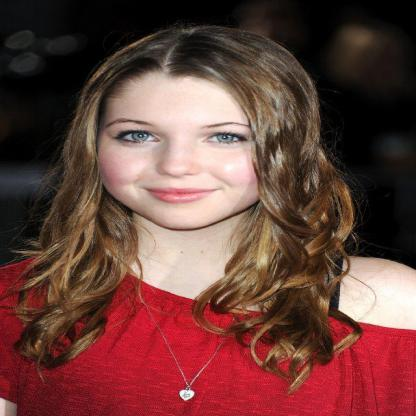long-hair: (26, 233, 368, 286)
